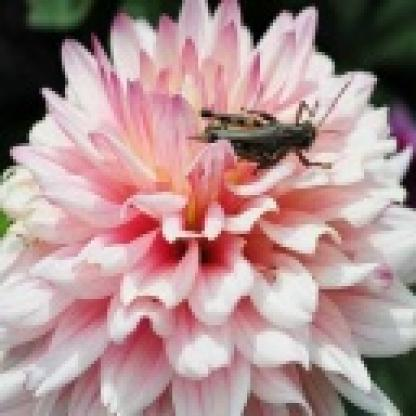grasshopper: (194, 98, 346, 171)
